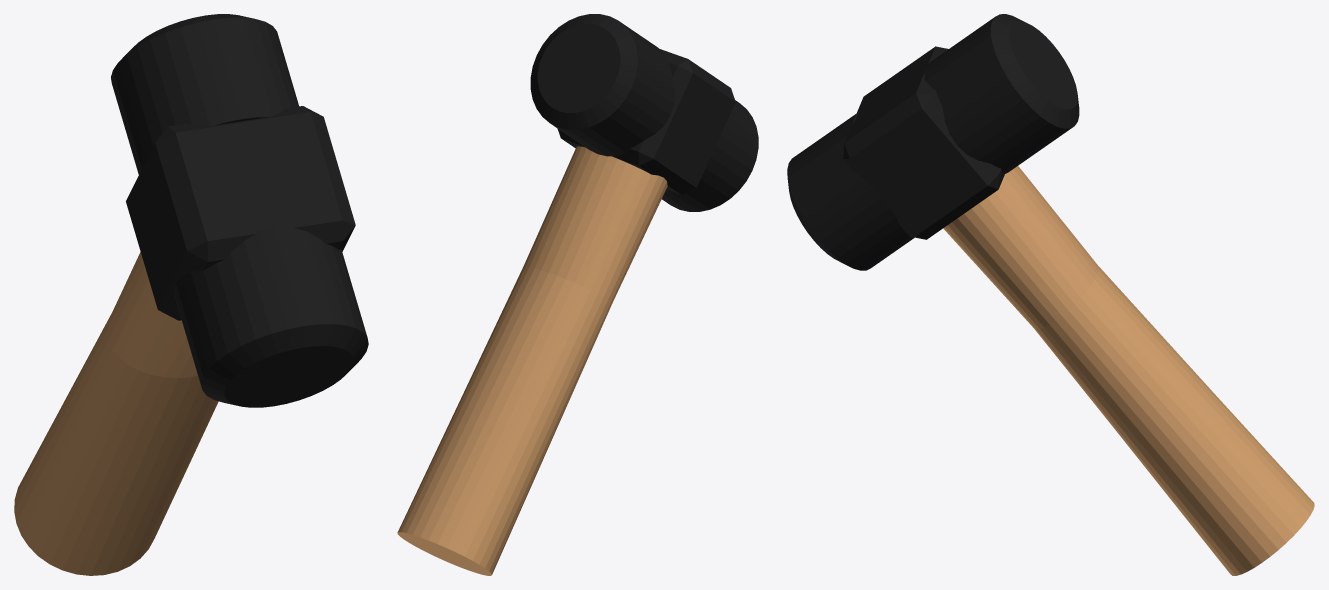
Rendered from Hammer_VanshGhadiya_Project2.gltf.
The picture shows the model from 3 angles, left to right: view 1: azimuth 30°, elevation 25°; view 2: azimuth 150°, elevation 25°; view 3: azimuth 270°, elevation 25°; orthographic projection. The views are drawn at different scales.
Visible parts, largest first — view 1: Cylinder; view 2: Cylinder; view 3: Cylinder.
Boxes of the visible parts, x1,y1,x2,y2 form: Cylinder: (14, 14, 368, 575); Cylinder: (397, 14, 758, 575); Cylinder: (787, 14, 1314, 575).
Size of the model in its own units: 2.07 by 6.04 by 5.45.
